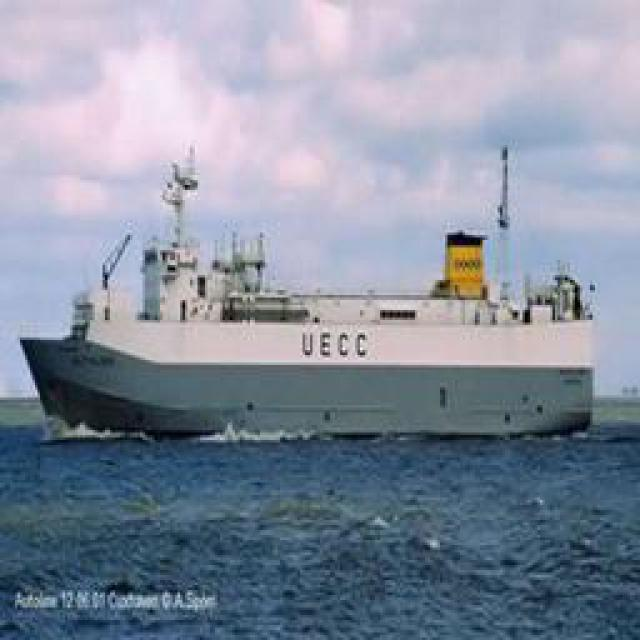Ship: (21, 147, 601, 435)
